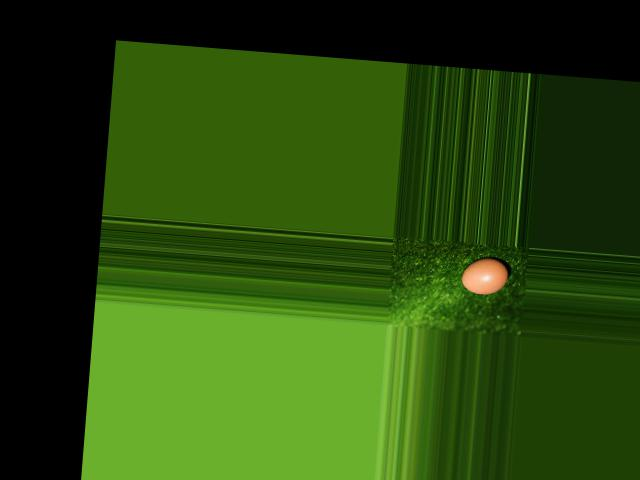egg: (459, 255, 509, 295)
